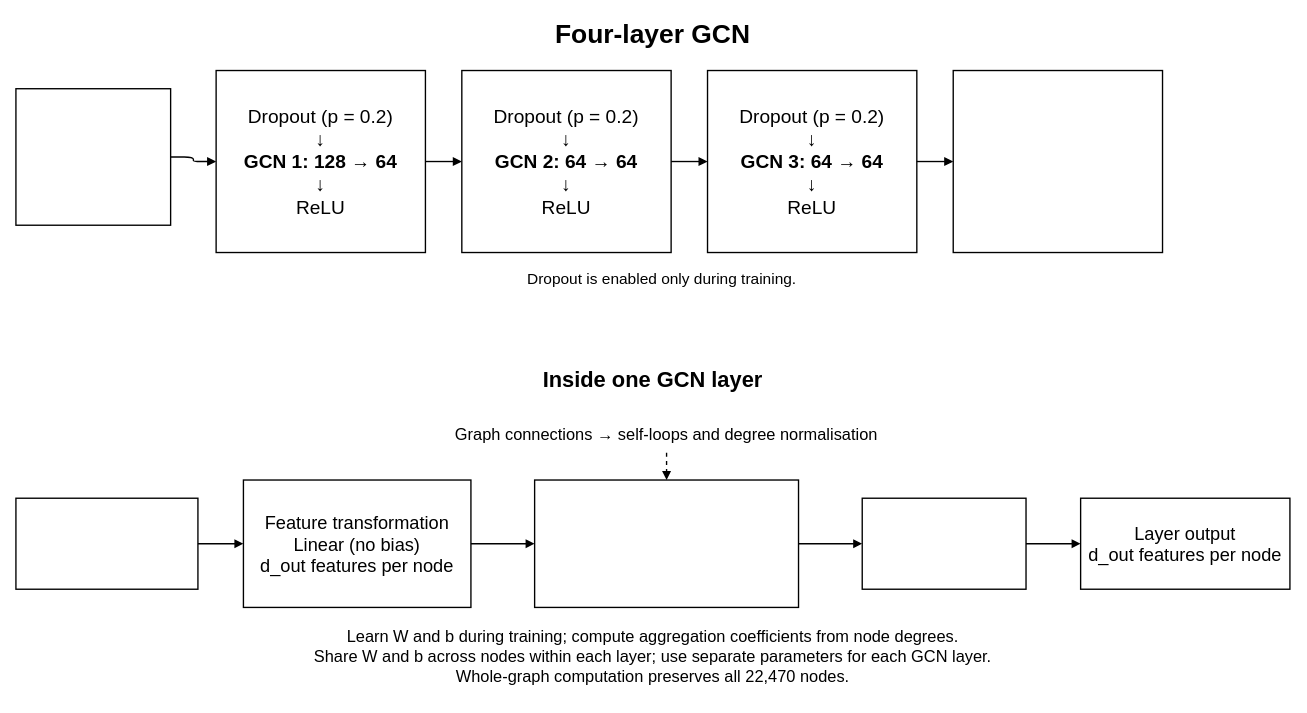
Some shapes in this 1307 by 713 pixel diagram are drawn without their labels. The centre of each missing label's shape, as x and y in pixels:
Add bias b Shared by all nodes: (x=943, y=543)
Dropout (p = 0.2) ↓ GCN 4: 64 → 4 ↓ 4 class scores: (x=1057, y=161)
Input features 128 per node: (x=93, y=156)
Neighbour aggregation Self + direct neighbours Degree-weighted sum: (x=666, y=543)
Node features d_in features per node: (x=106, y=543)
